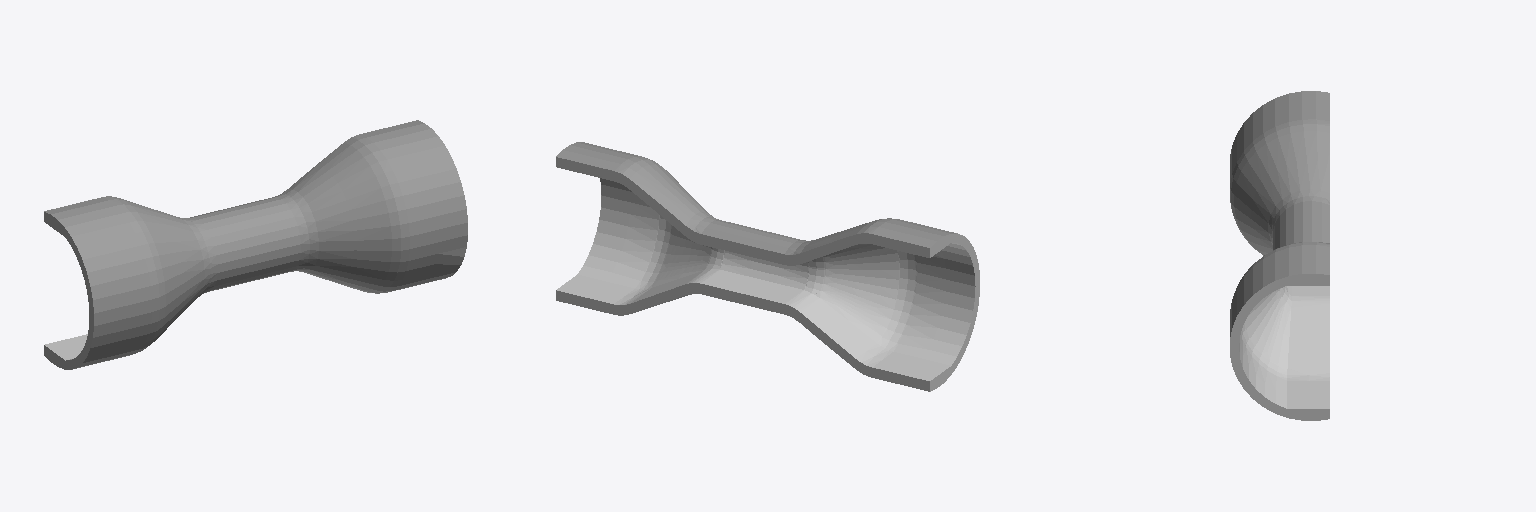
File: LinearTubeThin.obj
3 renders of one model, left to right at view 1: azimuth 30°, elevation 25°; view 2: azimuth 150°, elevation 25°; view 3: azimuth 270°, elevation 25°, orthographic.
Visible parts, largest first — view 1: LinearTubeThin; view 2: LinearTubeThin; view 3: LinearTubeThin.
Part boxes in pixels (bbox=[...]): LinearTubeThin: bbox=[44, 120, 467, 369]; LinearTubeThin: bbox=[556, 142, 979, 391]; LinearTubeThin: bbox=[1230, 91, 1329, 420].
Size of the model in its own units: 45 by 16.96 by 10.47.